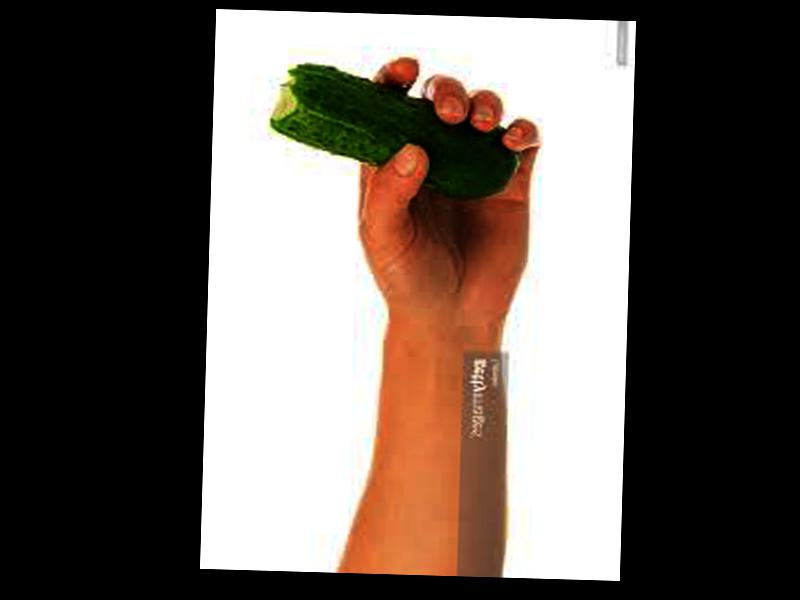Cucumber: (268, 63, 520, 199)
